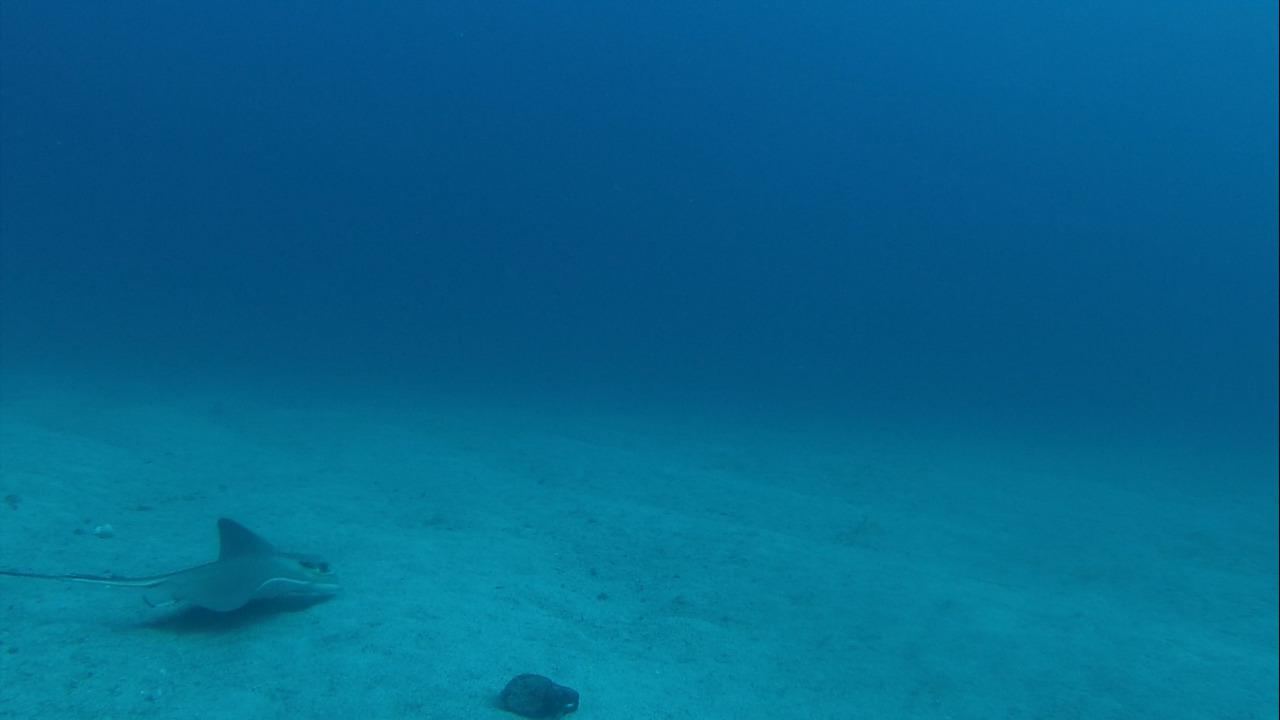myliobatis: (1, 514, 348, 621)
